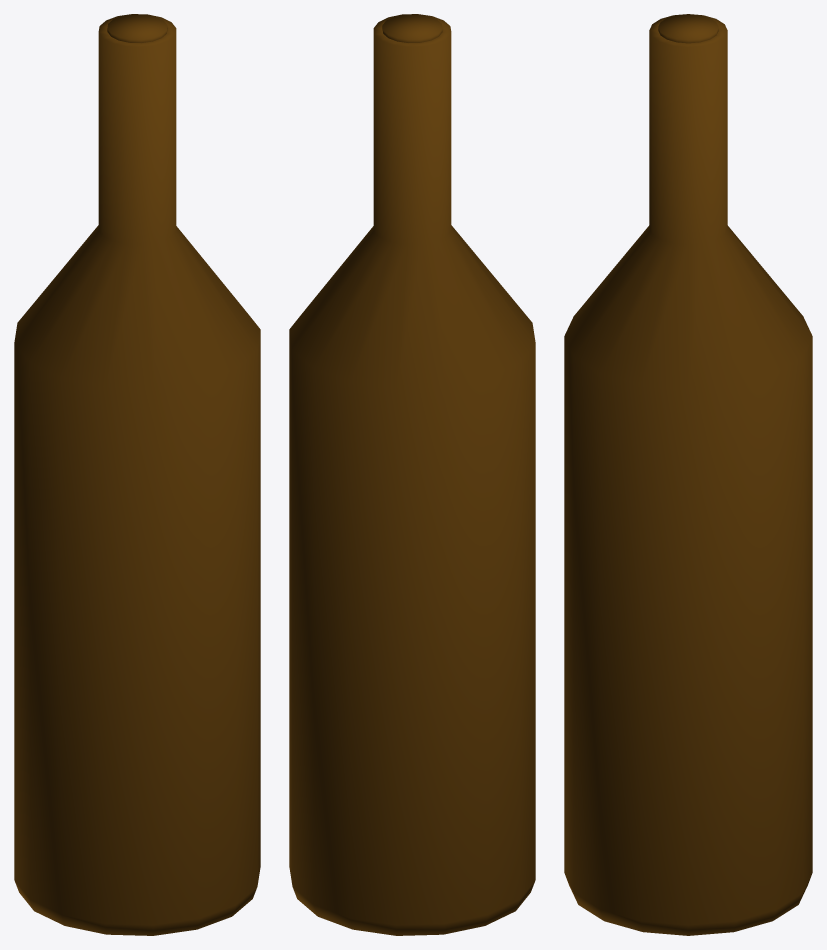
Rendered from Bottiglia1.FBX.
The picture shows the model from 3 angles, left to right: view 1: azimuth 30°, elevation 25°; view 2: azimuth 150°, elevation 25°; view 3: azimuth 270°, elevation 25°; orthographic projection.
Visible parts, largest first — view 1: Botiglia1; view 2: Botiglia1; view 3: Botiglia1.
Boxes of the visible parts, x1,y1,x2,y2 form: Botiglia1: (14,14,260,935); Botiglia1: (289,14,535,935); Botiglia1: (564,14,812,935).
Size of the model in its own units: 8.42 by 32.09 by 8.42.
